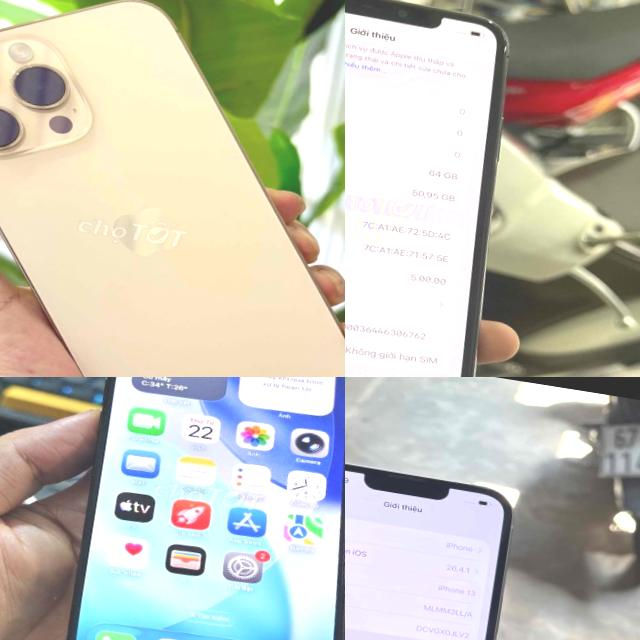gen_11: (345, 0, 548, 377)
gen_12_13: (345, 458, 539, 640)
gen_14: (0, 0, 345, 377)
gen_15: (14, 377, 345, 640)
